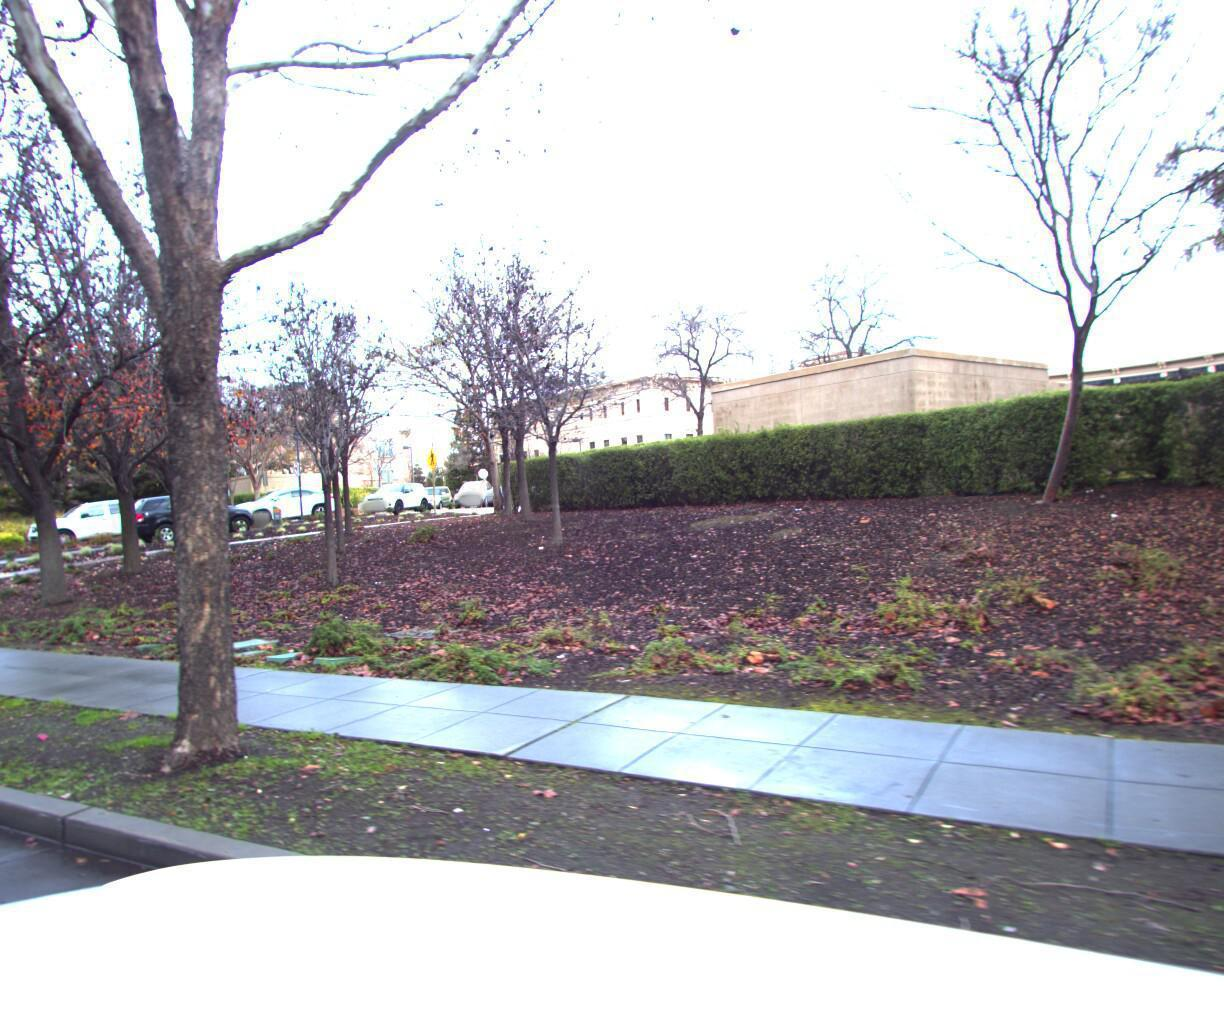car: (23, 498, 189, 550), (125, 495, 270, 544), (218, 487, 344, 528), (354, 482, 436, 516), (448, 480, 502, 509), (414, 486, 473, 513)
